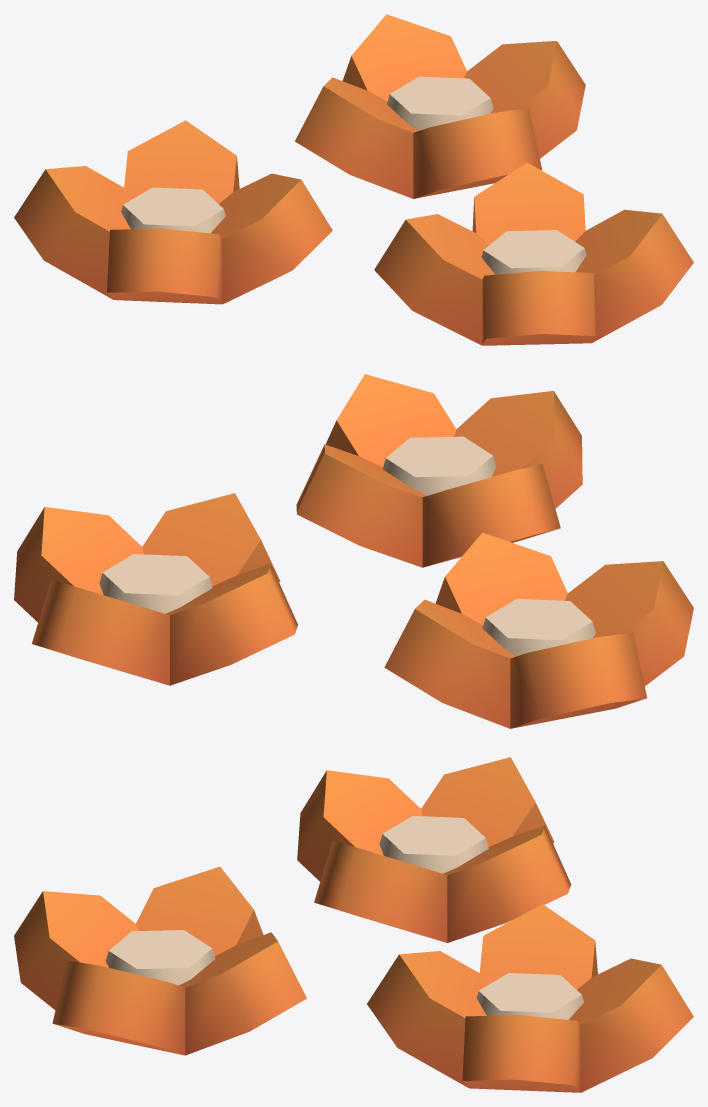
The model's file is flowers.glb.
3 views of the same model, one above another, from view 1: azimuth 30°, elevation 25°; view 2: azimuth 150°, elevation 25°; view 3: azimuth 270°, elevation 25° (orthographic). The views are drawn at different scales.
Visible parts, largest first — view 1: flowers; view 2: flowers; view 3: flowers.
Boxes of the visible parts, bbox=[...] form: flowers: bbox=[14, 14, 693, 345]; flowers: bbox=[14, 374, 693, 728]; flowers: bbox=[14, 757, 693, 1092].
Size of the model in its own units: 0.7766 by 0.137 by 0.7857.
